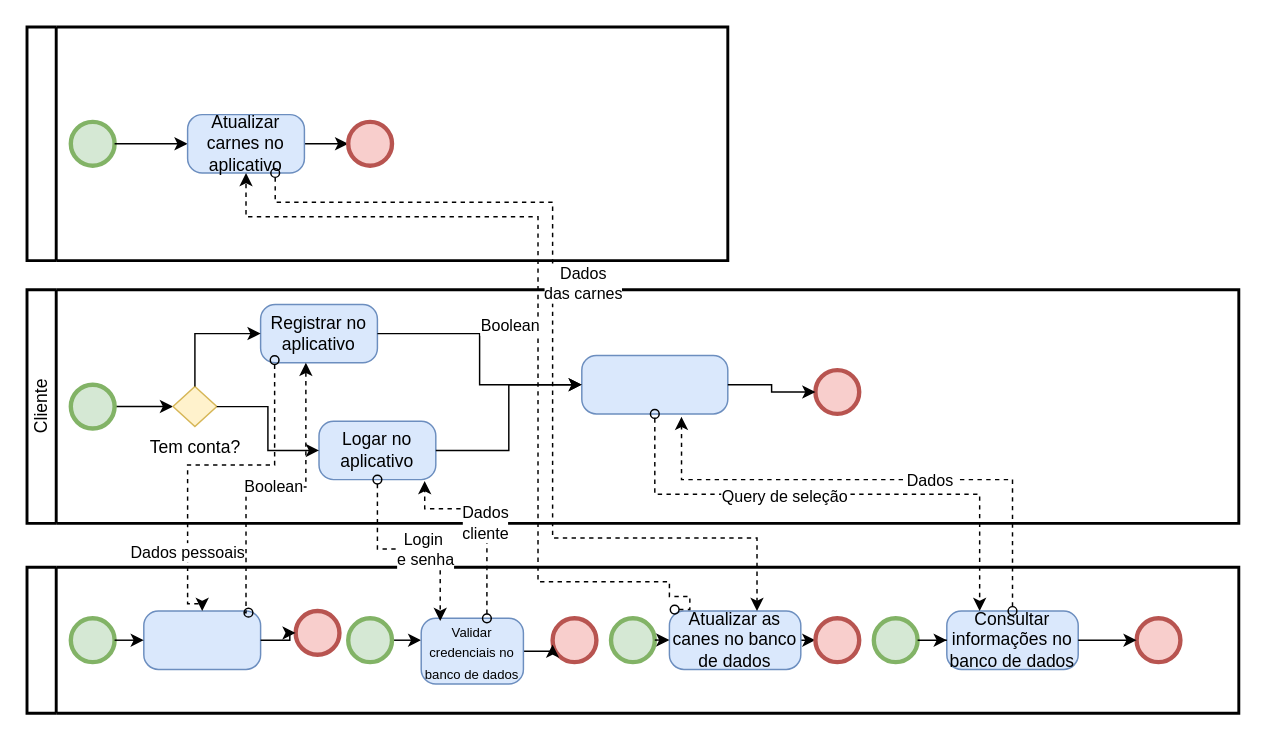
This 1264x739 diagram has some shape labels left out. Here are the shapes that lost their labels. From the top down, the box of each, then its label:
(25, 25, 729, 261): Funcionário
(580, 354, 728, 414): Consultar carne desejada
(142, 610, 261, 669): Registrar cliente no banco dados
(25, 565, 1240, 714): Sistema
